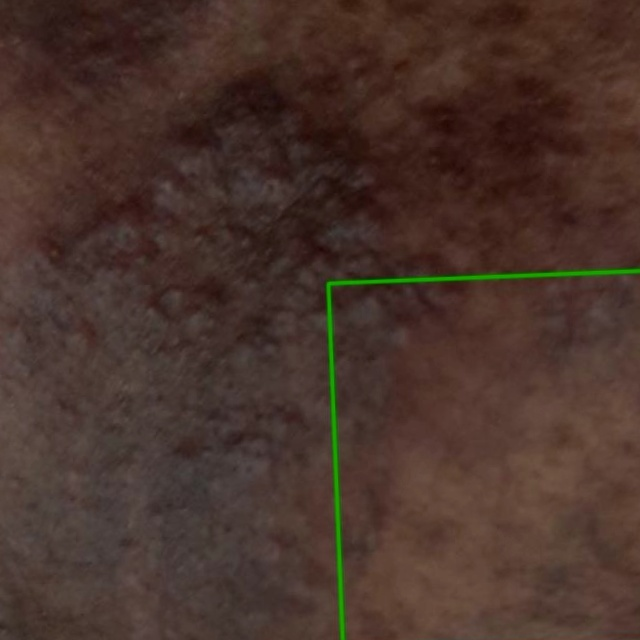Tinea Corporis: (328, 271, 639, 639)
